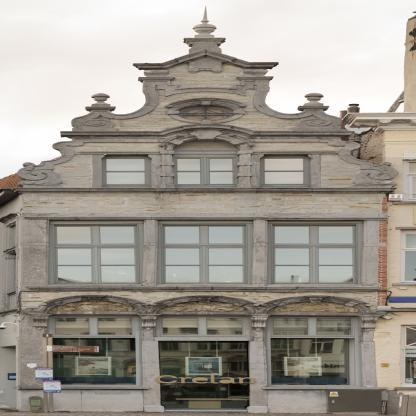Building Outline: (10, 5, 398, 414)
Cornice: (60, 123, 356, 135), (260, 295, 385, 316), (20, 295, 150, 314), (149, 294, 261, 314), (165, 97, 247, 108)
Deco: (268, 301, 361, 312), (157, 301, 250, 312), (48, 301, 140, 311)
Door: (159, 341, 250, 410)
Facade: (20, 188, 387, 414)
Floor: (21, 207, 387, 305)
Floor Slab: (21, 201, 386, 207), (21, 300, 387, 305)
Glass Wall: (53, 338, 136, 384), (271, 338, 349, 385)
Ground Floor: (21, 305, 387, 414)
Shop: (155, 375, 255, 384)
Sill: (10, 187, 398, 194), (26, 286, 380, 291), (262, 387, 387, 390), (16, 387, 150, 389)
Top Floor: (71, 132, 340, 207)
Window: (49, 220, 144, 285), (158, 220, 253, 285), (268, 221, 363, 285), (173, 139, 240, 187), (266, 315, 361, 337), (155, 315, 250, 337), (47, 315, 141, 337), (173, 157, 239, 187), (260, 154, 311, 186), (102, 154, 151, 187)
